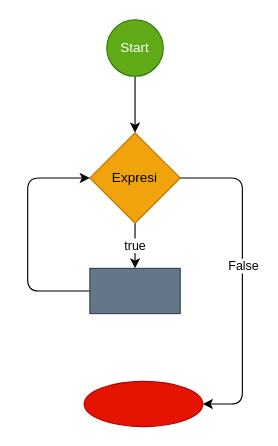
This 278x446 diagram has some shape labels left out. The centre of each missing label's shape, as x and y in pixels:
END: (x=143, y=403)
Statement: (x=134, y=290)
